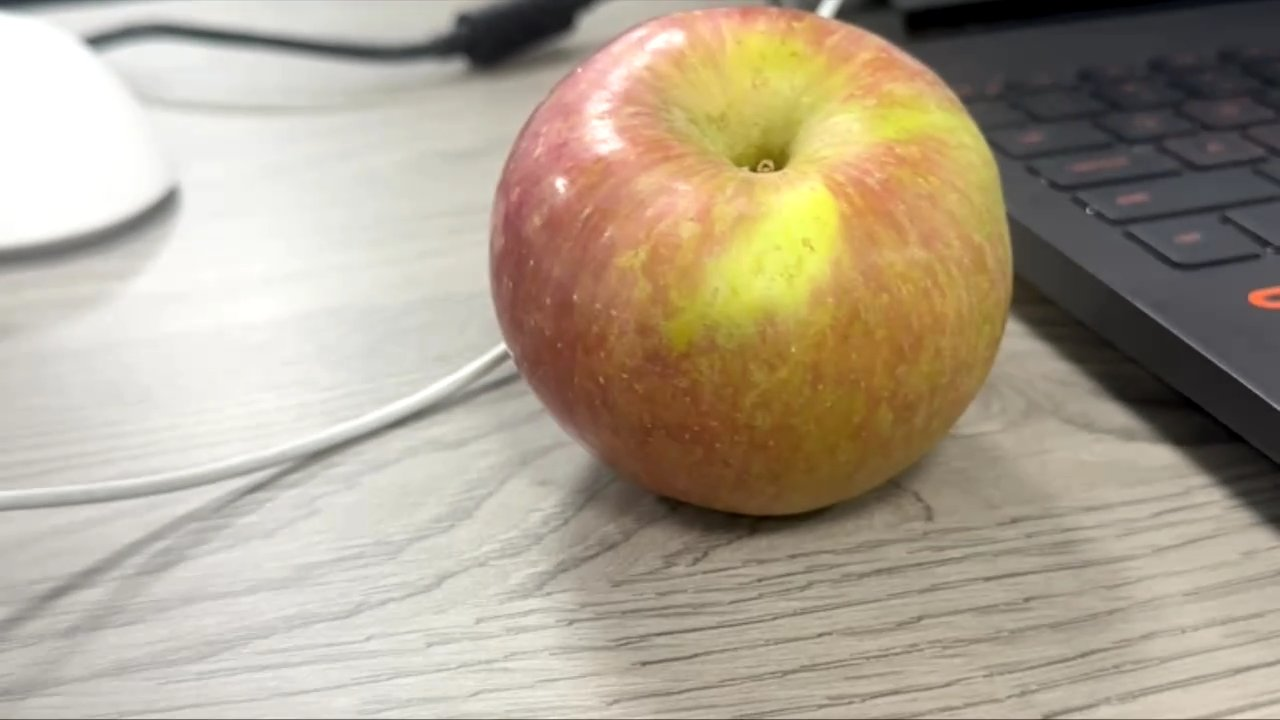apple_fresh: (479, 4, 1021, 528)
